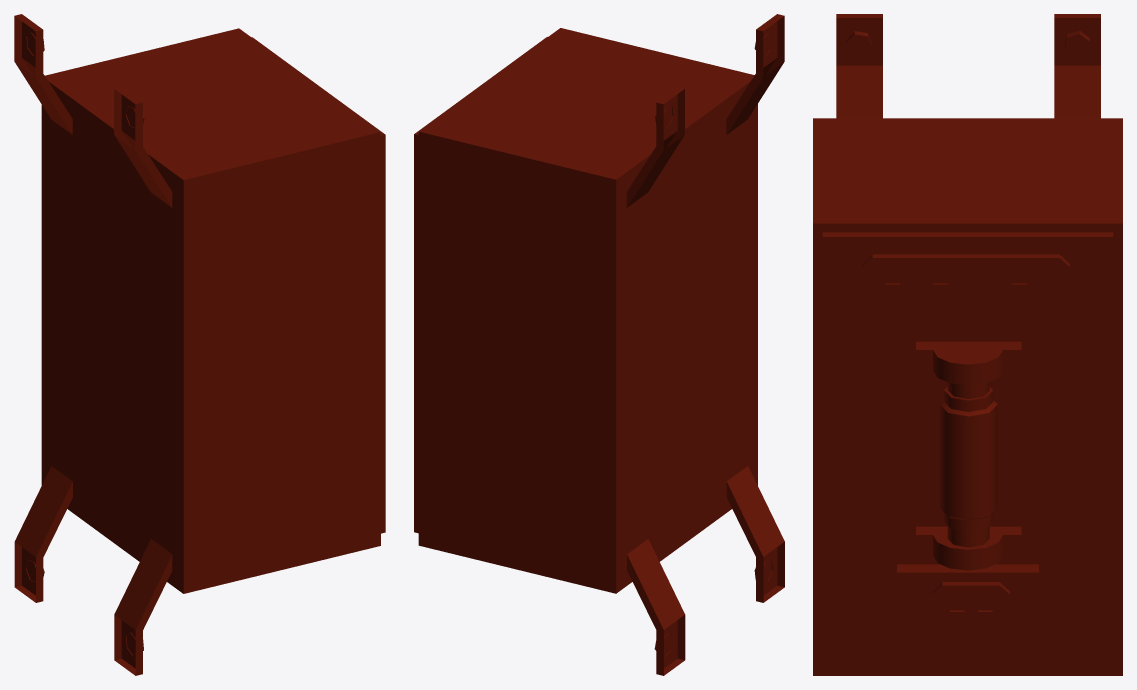
File: automation cabinet3.FBX
The picture shows the model from 3 angles, left to right: view 1: azimuth 30°, elevation 25°; view 2: azimuth 150°, elevation 25°; view 3: azimuth 270°, elevation 25°; orthographic projection. The views are drawn at different scales.
Parts seen in each view (by area): view 1: automation cabinet3; view 2: automation cabinet3; view 3: automation cabinet3.
Boxes of the visible parts, bbox=[...] form: automation cabinet3: bbox=[14, 14, 385, 675]; automation cabinet3: bbox=[414, 14, 784, 675]; automation cabinet3: bbox=[813, 14, 1122, 675].
Size of the model in its own units: 33.31 by 66.48 by 29.89.
